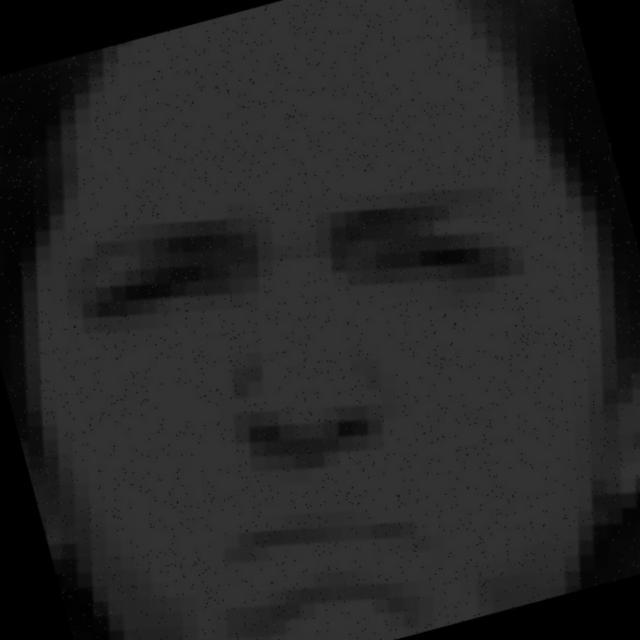Disgust: (26, 34, 586, 640)
